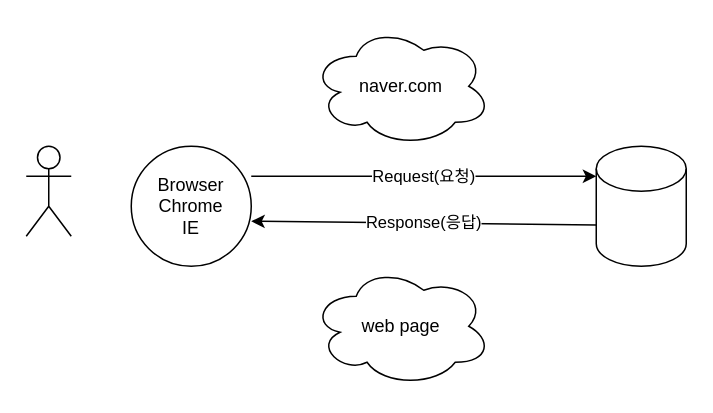
Some shapes in this 713 by 413 pixel diagram are drawn without their labels. Each missing label, with the centre of its shape:
"Actor" belongs at (x=48, y=190).
"Server" belongs at (x=640, y=205).
